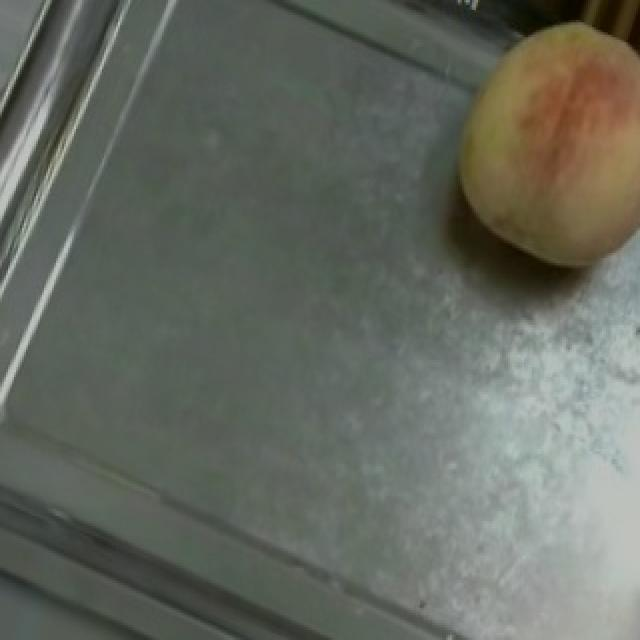Fruit: (410, 0, 640, 303)
